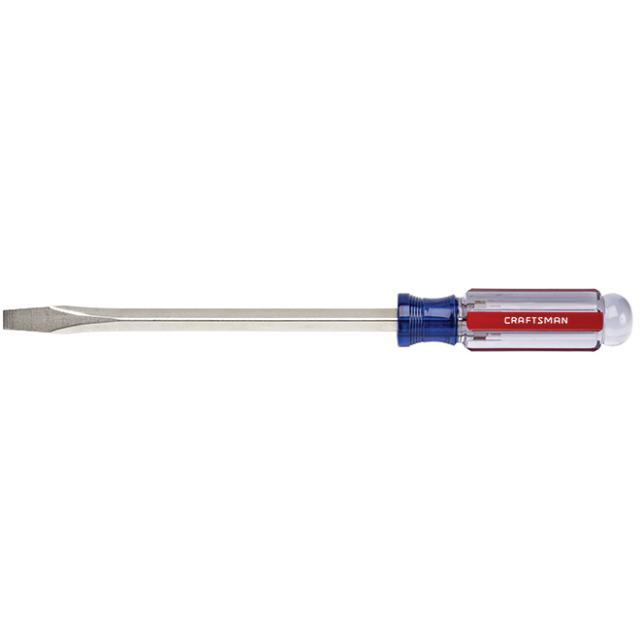screwdriver: (0, 280, 632, 358)
